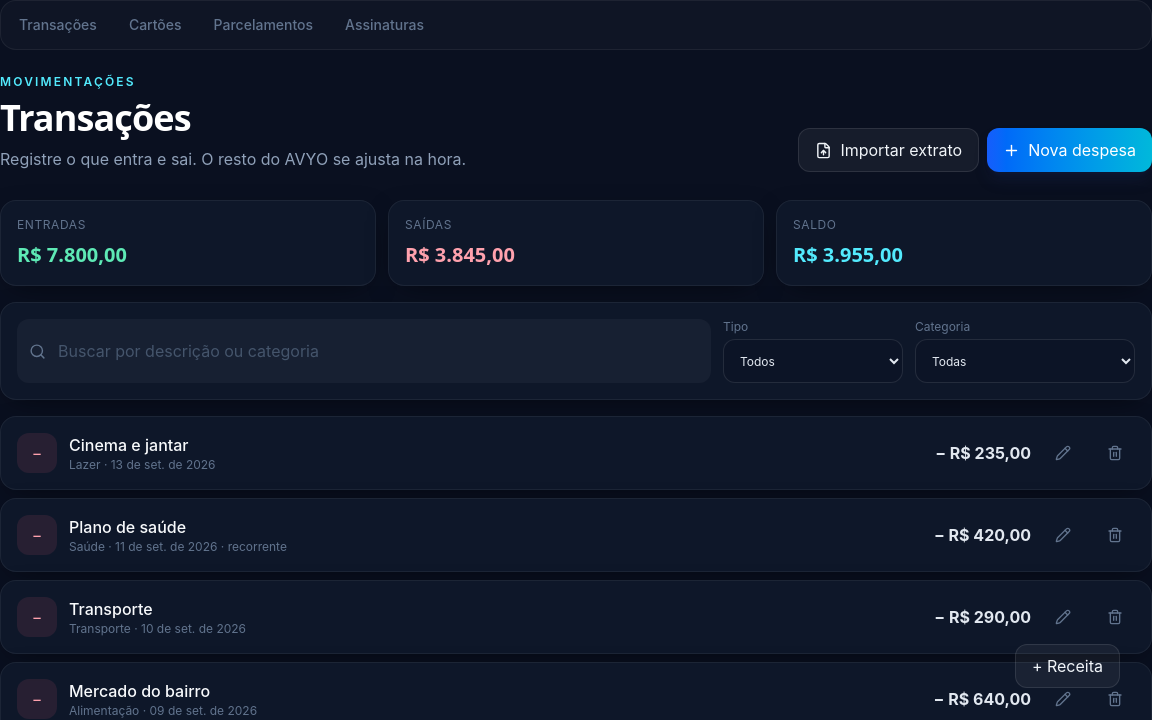
Test: edits and deletes a transaction
This screenshot has width=1152, height=720.
Click the button named "Editar Mercado do bairro" at [1063, 699], box [1043, 679, 1083, 719]
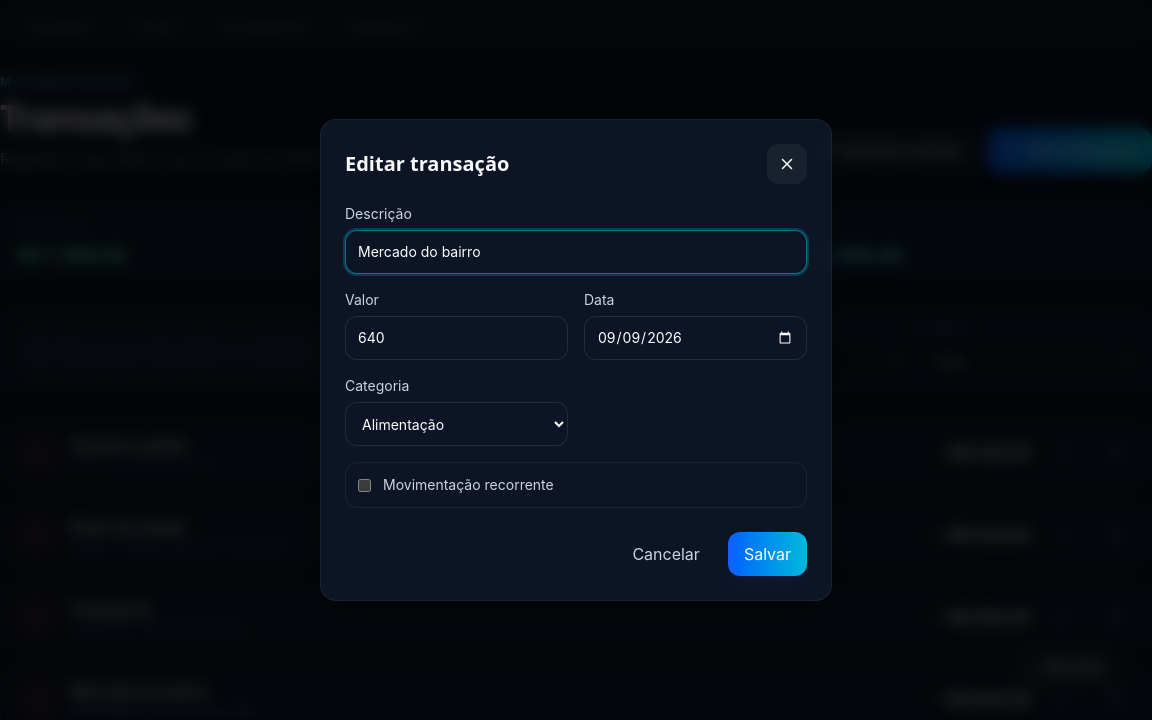
Replace the text in the field labelled "Descrição" with "Mercado semanal" at [576, 252], box [345, 230, 807, 274]
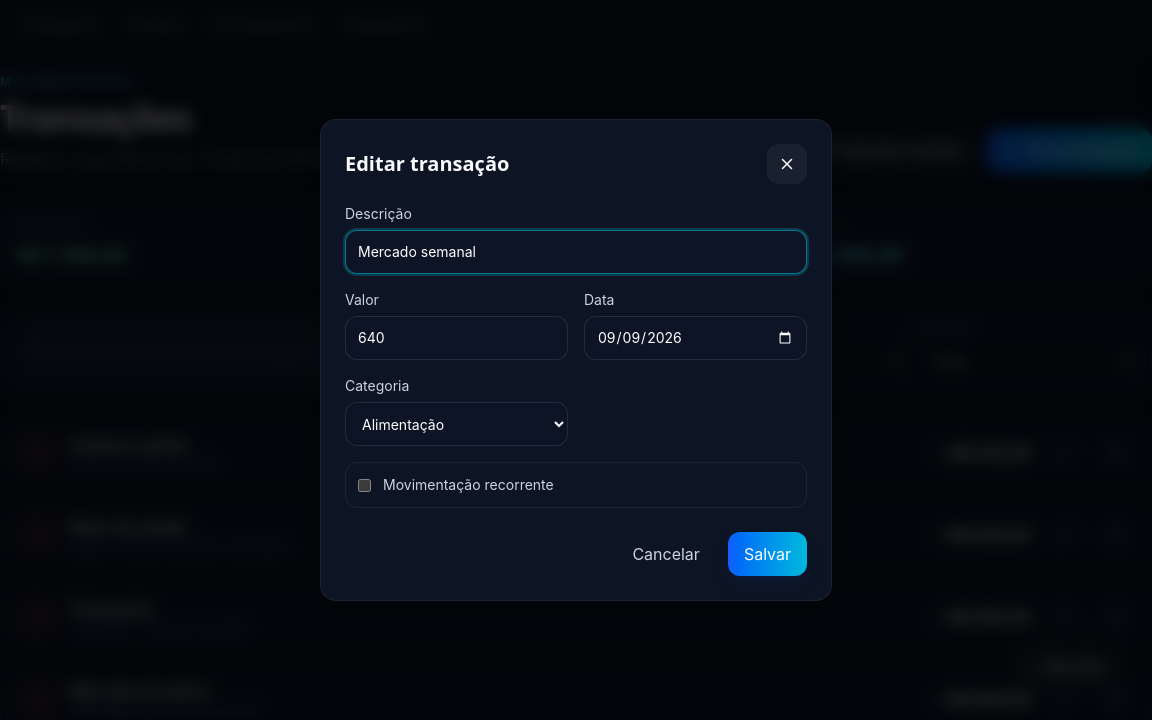
Click the button "Salvar" at [767, 554], box [728, 532, 807, 576]
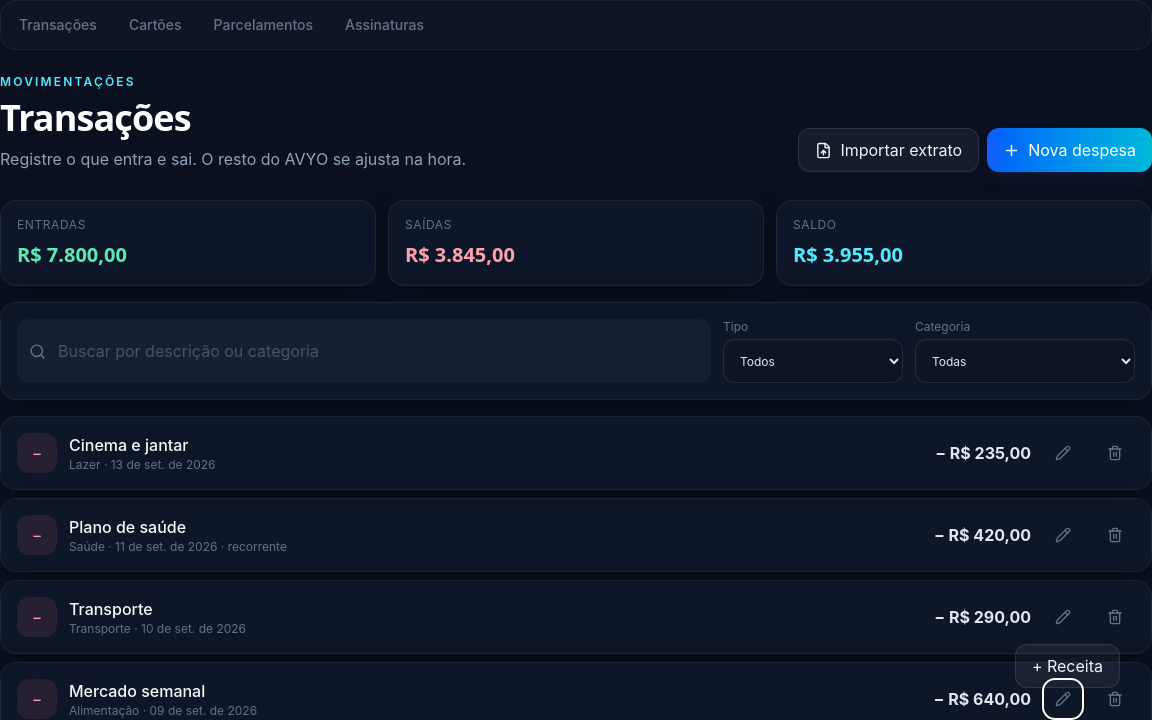
Result: the heading "Mercado semanal" is shown at [69, 681, 205, 701]
Click the button named "Excluir Mercado semanal" at [1115, 699], box [1095, 679, 1135, 719]
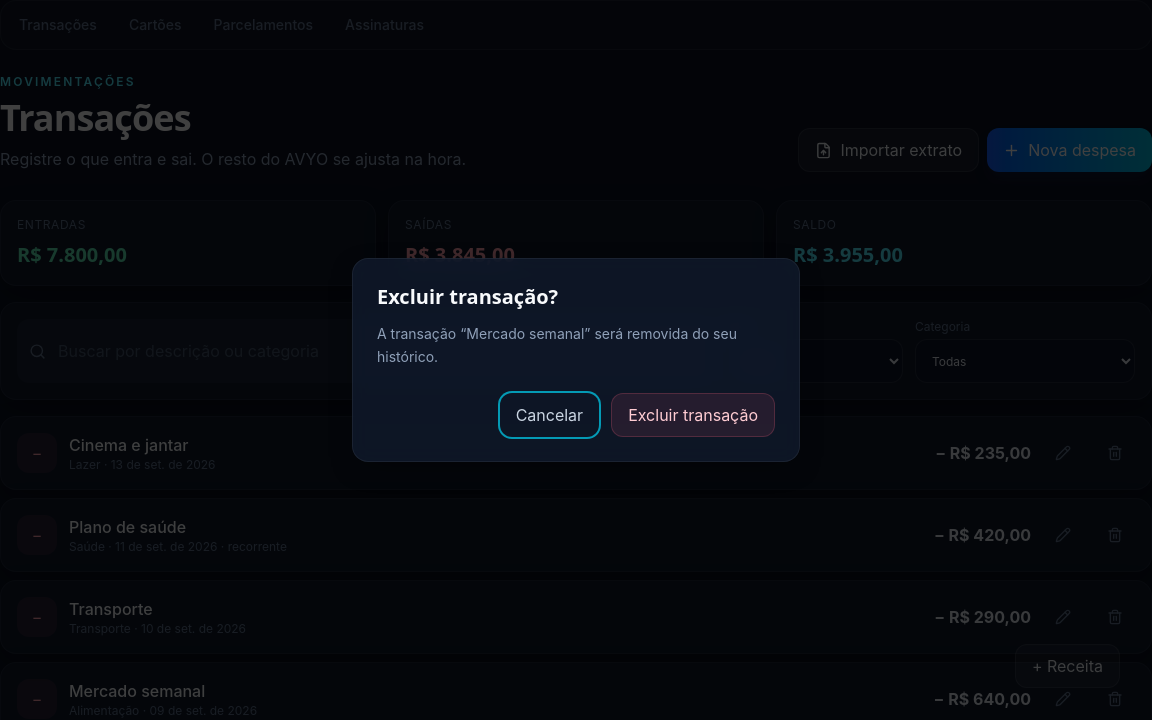
Result: the dialog "Excluir transação?" is shown at [352, 258, 800, 462]
Click the button "Excluir transação" at [693, 415], box [611, 393, 775, 437]
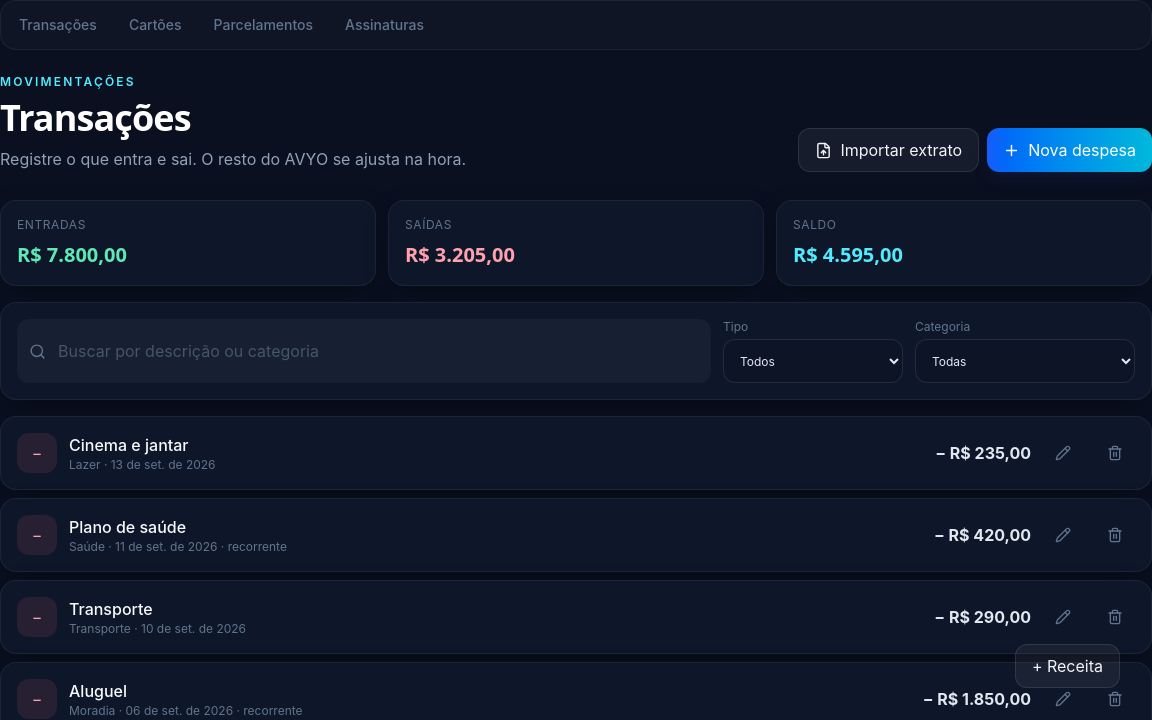
Result: the heading "Mercado semanal" is gone
